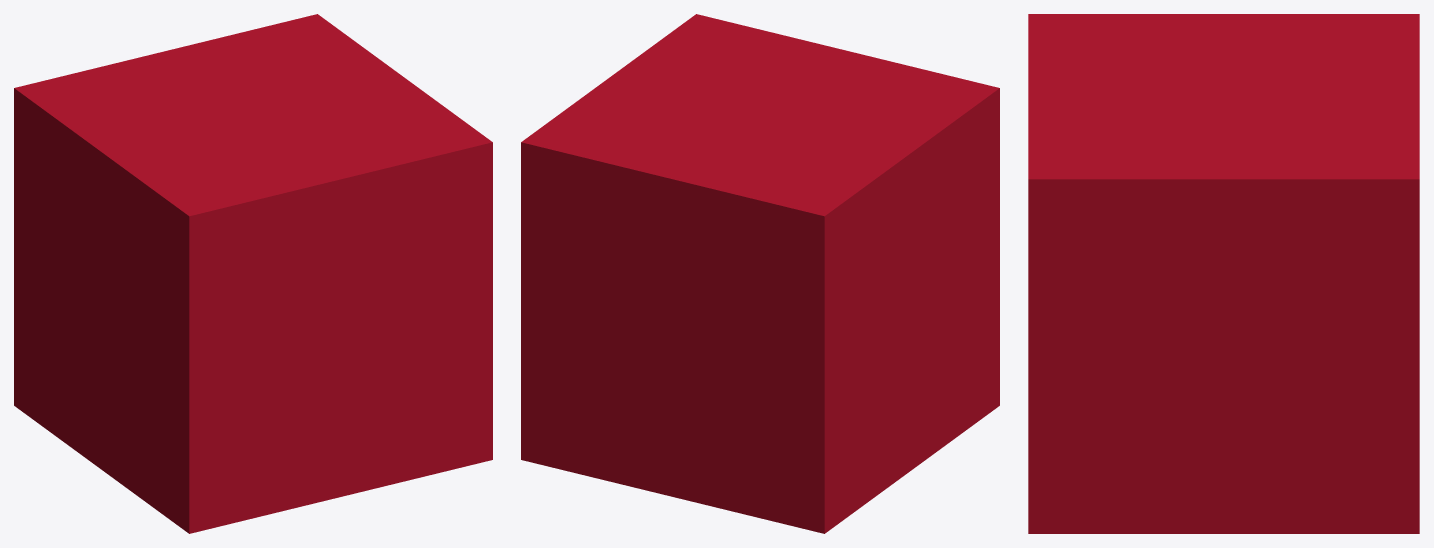
File: redcubefull.glb
3 views of the same model, side by side, from view 1: azimuth 30°, elevation 25°; view 2: azimuth 150°, elevation 25°; view 3: azimuth 270°, elevation 25° (orthographic). The views are drawn at different scales.
Parts seen in each view (by area): view 1: Red_Cube_Full; view 2: Red_Cube_Full; view 3: Red_Cube_Full.
Boxes of the visible parts, <box> form: Red_Cube_Full: <box>14,14,492,533</box>; Red_Cube_Full: <box>521,14,999,533</box>; Red_Cube_Full: <box>1028,14,1419,533</box>.
Bounding box in the file's own units: 2 × 2 × 2.
